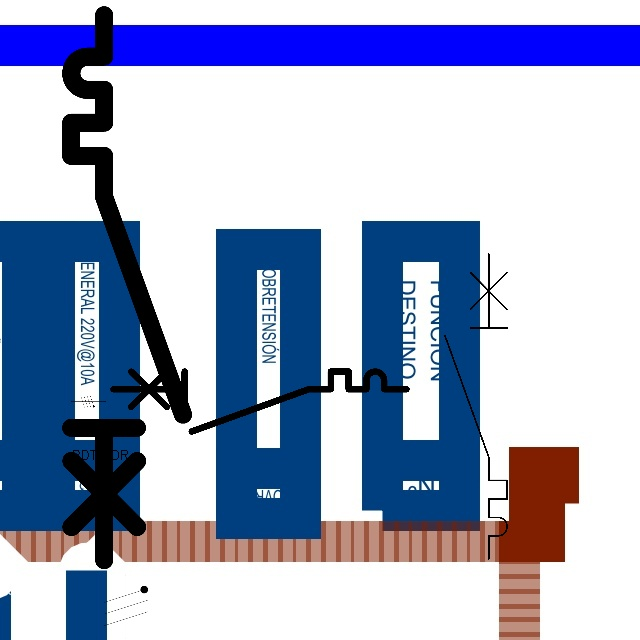interruptor_termomagnetico: (57, 1, 197, 574), (437, 246, 515, 567), (105, 364, 413, 439)
